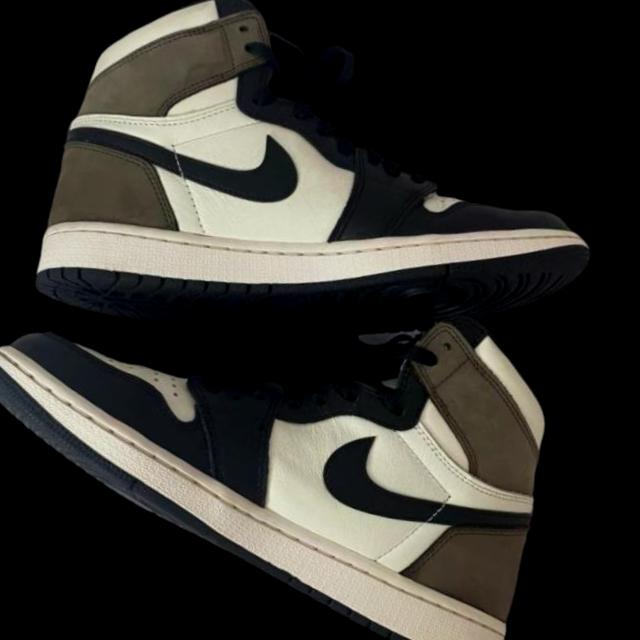nike_original_jordan: (0, 0, 638, 525), (0, 120, 640, 640)
